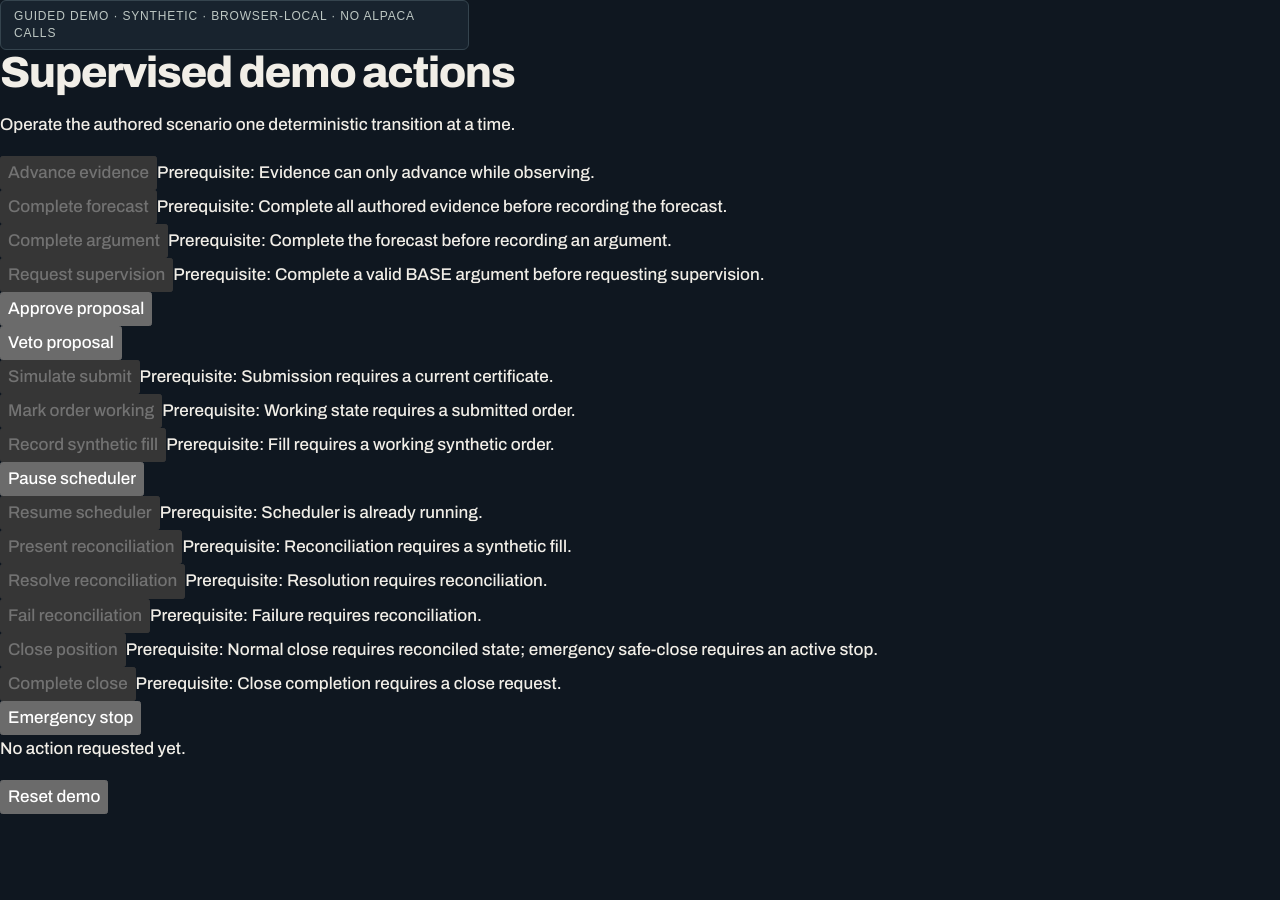
simulator components › confirms an action and announces concise live feedback
Click the button "Approve proposal": (76, 309) [0,292,152,326]
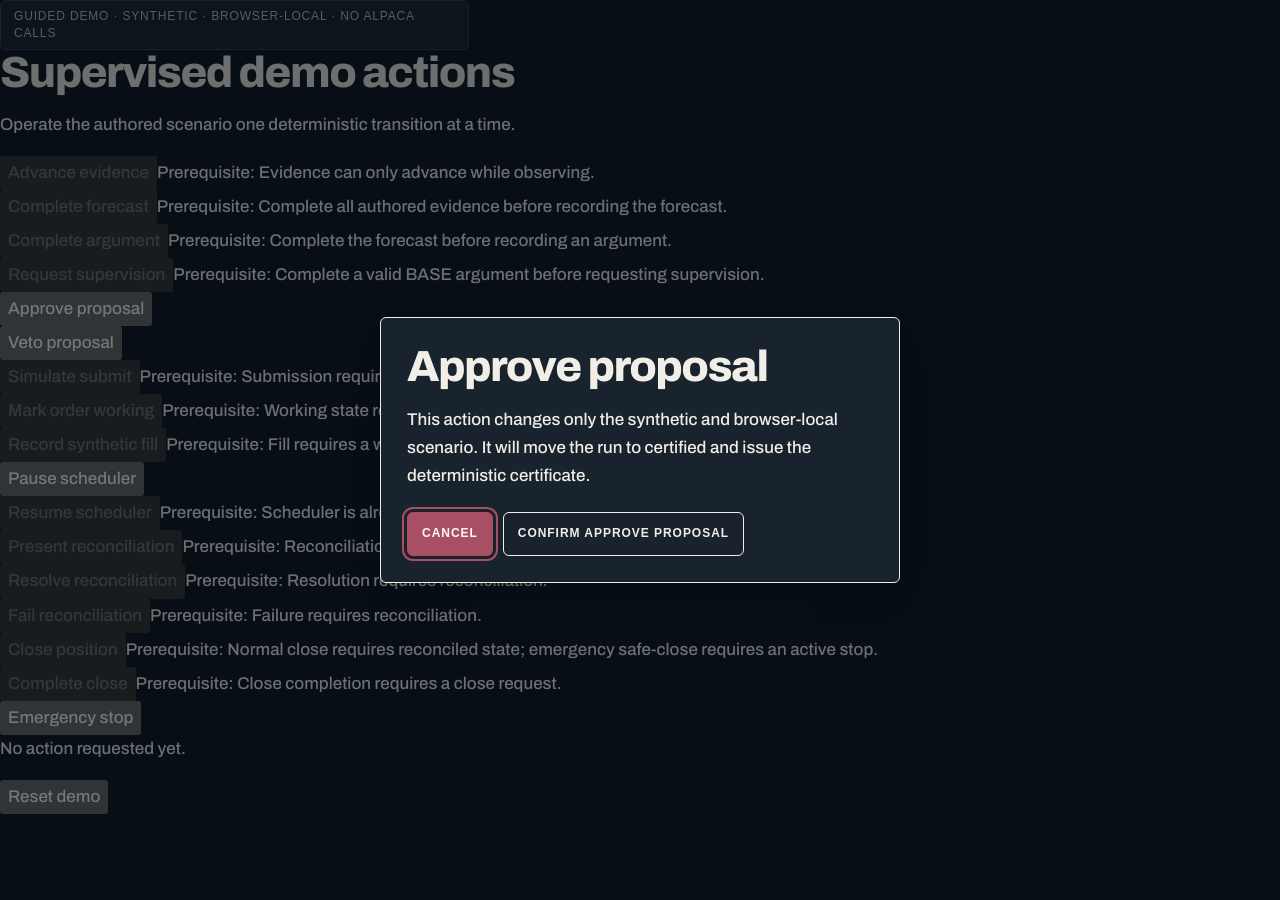
Click the button "Confirm Approve proposal": (623, 534) [503,512,744,556]
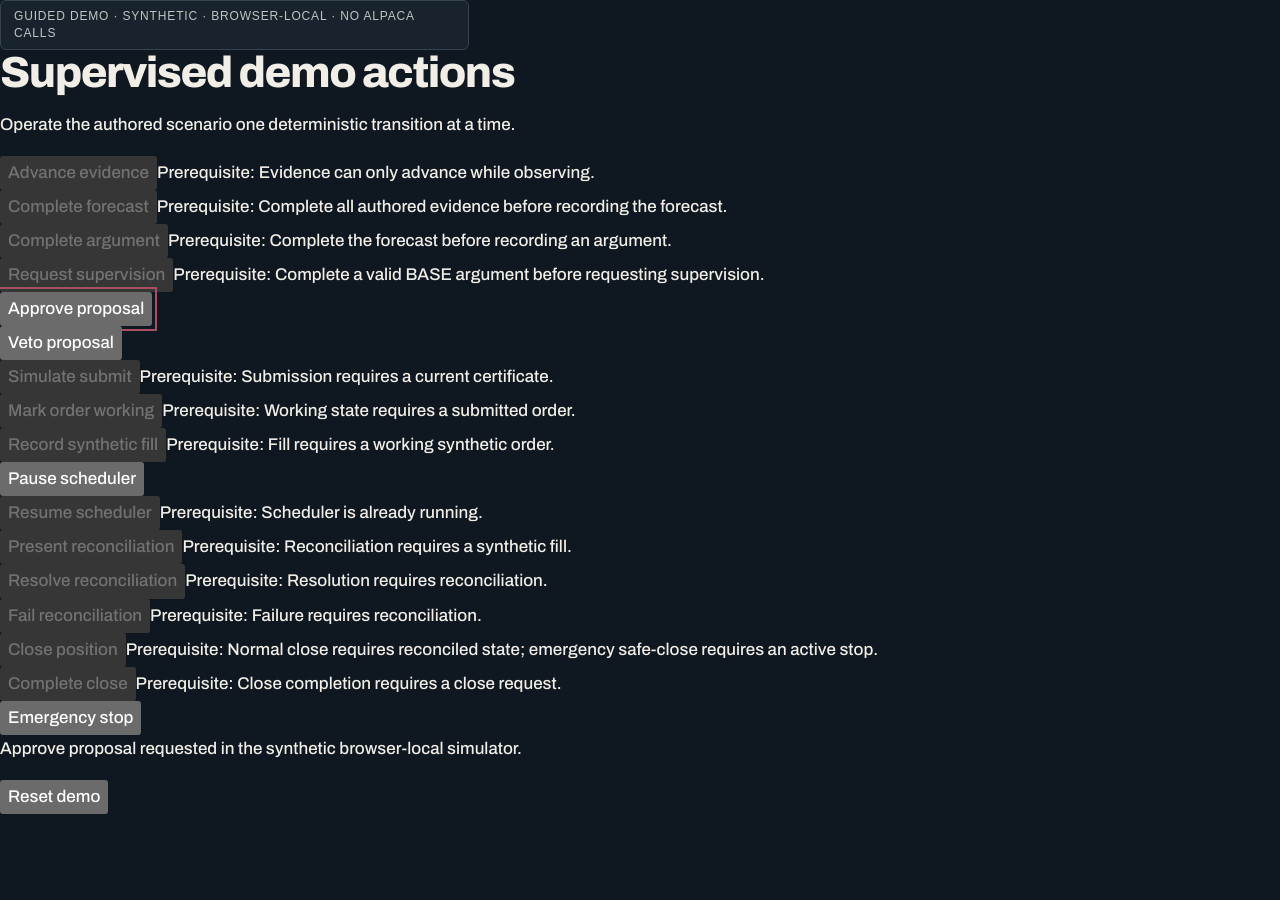
Now the message reads "Approve proposal requested in the synthetic browser-local simulator.", box [0,739,522,758]
